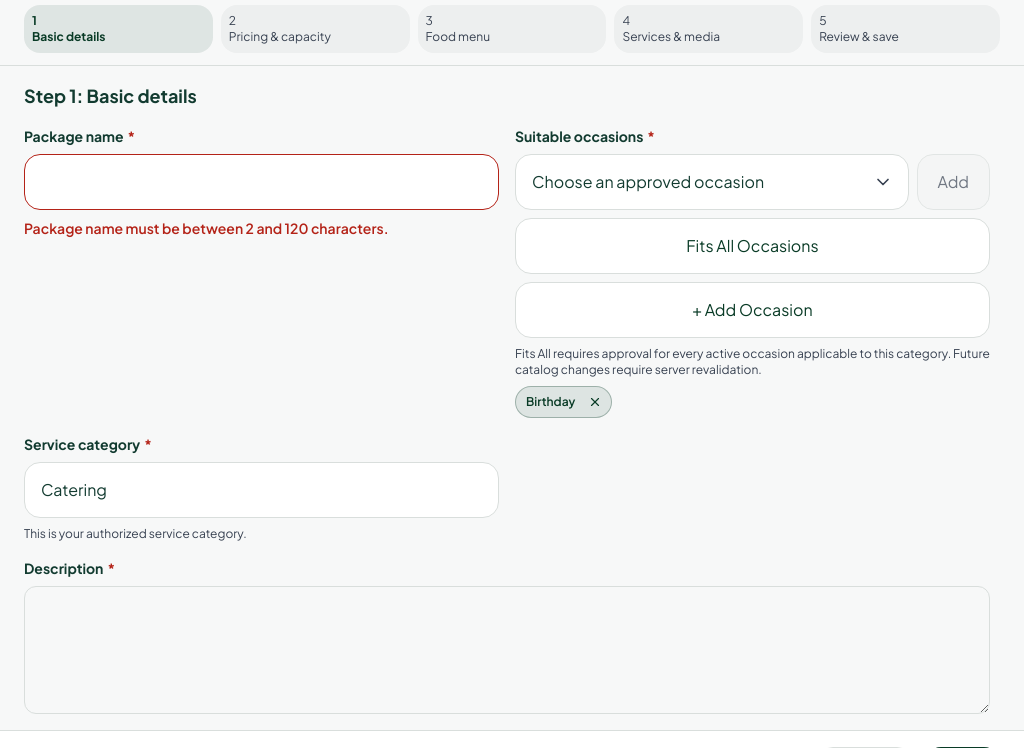
Test case: package layout refinement › keeps progress and actions outside scrolling content with a labeled read-only category
This screenshot has width=1024, height=748.
Expected: the field labelled "Service category*" holds "Catering", [24,462,499,518]
Type "Birthday package" into the field labelled "Package name*" at (262, 182), box [24,154,499,210]
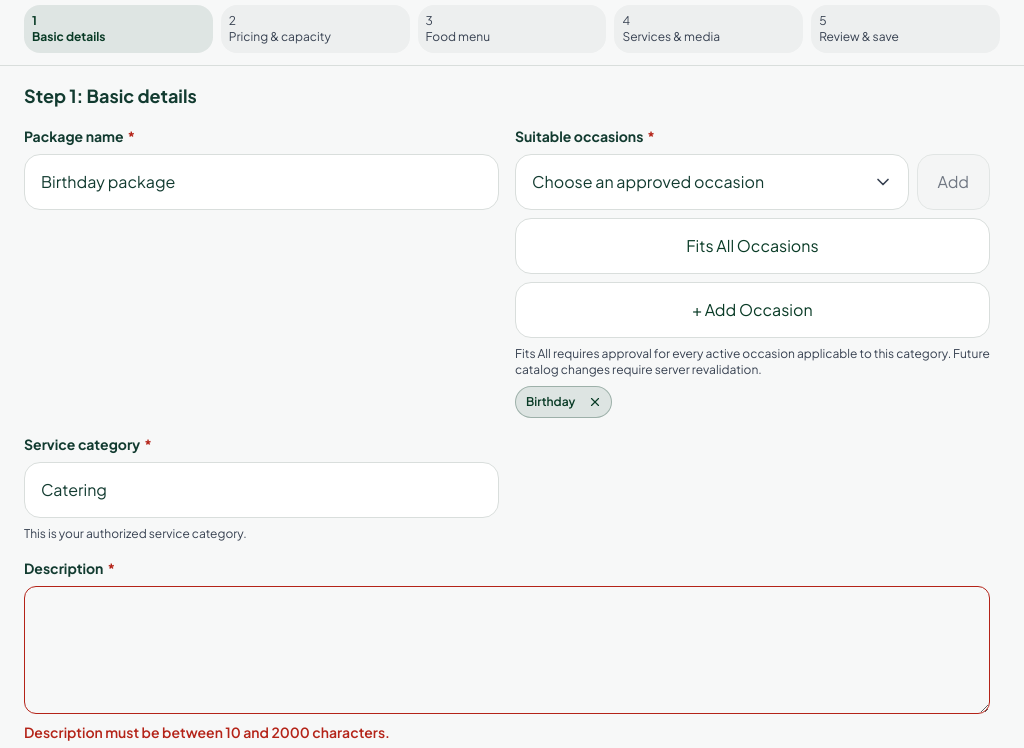
Type "Birthday catering" into the text box labelled "Description*" at (507, 650), box [24,586,990,714]
(page scrolled)
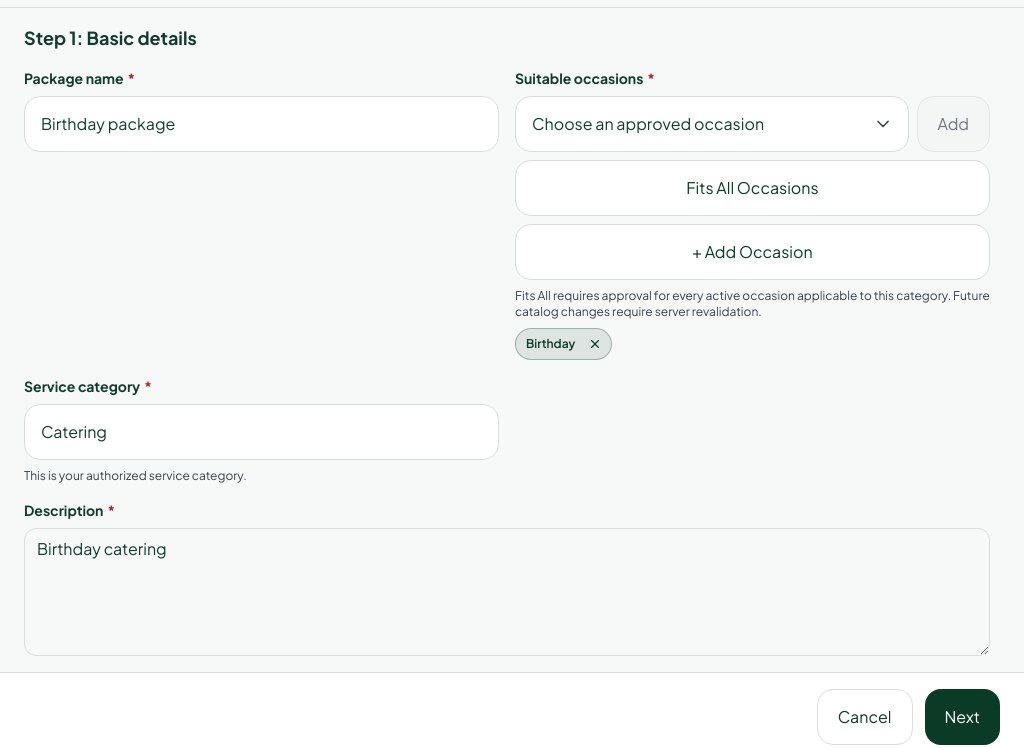
Click the button "Next" at (962, 717), box [924,689,1000,745]
(page scrolled)
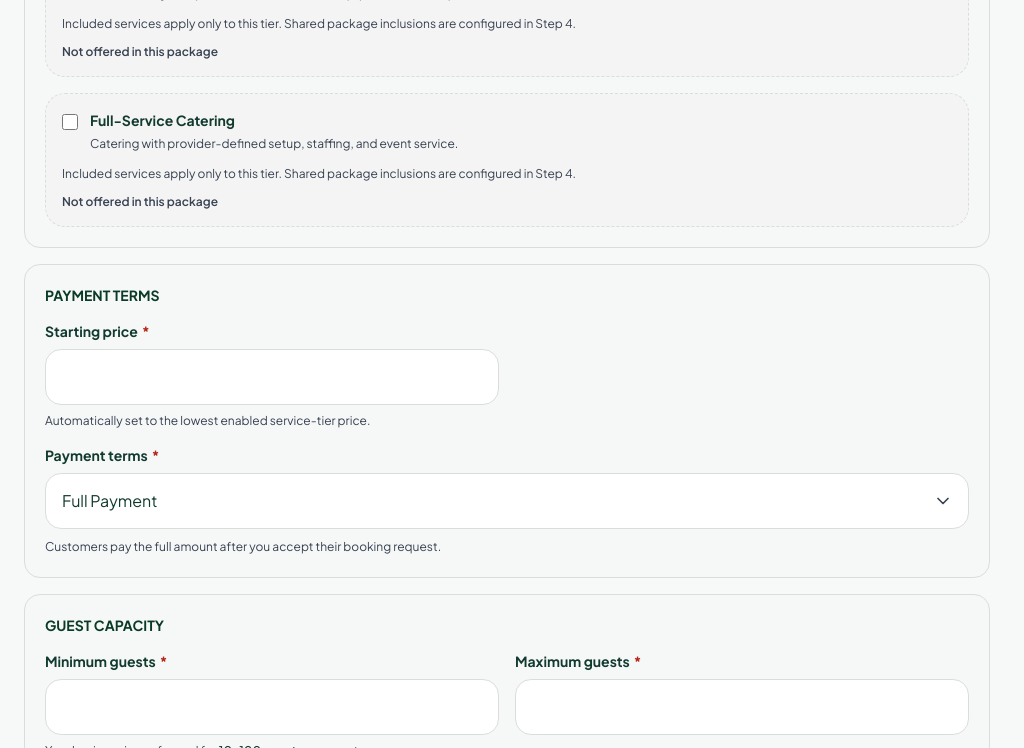
Expected: the element named "Payment and starting price" is shown, [24,264,990,578]
